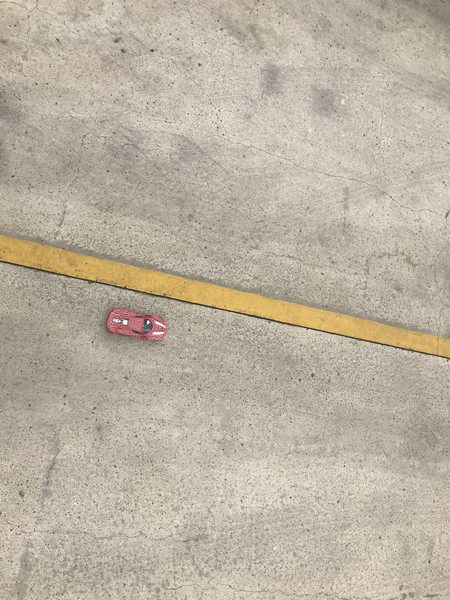RC: (104, 306, 170, 343)
